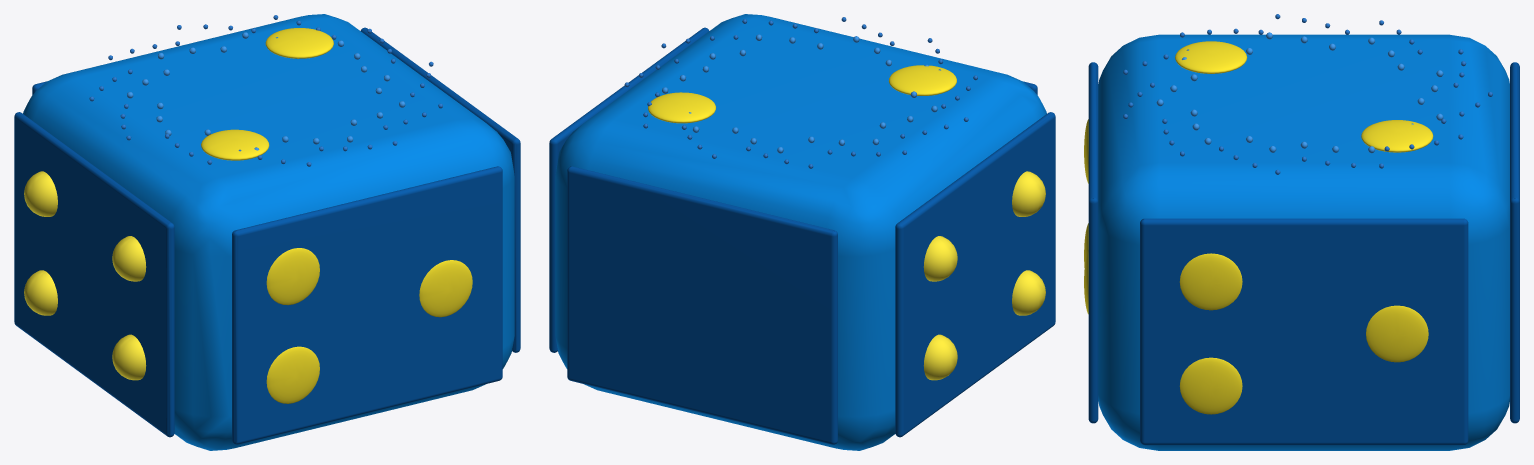
File: Schaumstoffwuerfel_3D_v2.glb
3 renders of one model, left to right at view 1: azimuth 30°, elevation 25°; view 2: azimuth 150°, elevation 25°; view 3: azimuth 270°, elevation 25°, orthographic. The views are drawn at different scales.
Parts seen in each view (by area): view 1: Schaumstoffwuerfel_3D_v2__web_darker_blue_soft_recessed_cube, Schaumstoffwuerfel_3D_v2__web_matte_blue_foam_cube_rounded_b, Schaumstoffwuerfel_3D_v2__web_raised_yellow_foam_cube_pips, Schaumstoffwuerfel_3D_v2__web_v2_extra_raised_yellow_foam_cu, Schaumstoffwuerfel_3D_v2__web_v2_extra_darker_blue_porous_fo, Schaumstoffwuerfel_3D_v2__web_subtle_blue_porous_foam_speckl; view 2: Schaumstoffwuerfel_3D_v2__web_darker_blue_soft_recessed_cube, Schaumstoffwuerfel_3D_v2__web_matte_blue_foam_cube_rounded_b, Schaumstoffwuerfel_3D_v2__web_v2_extra_raised_yellow_foam_cu, Schaumstoffwuerfel_3D_v2__web_raised_yellow_foam_cube_pips, Schaumstoffwuerfel_3D_v2__web_v2_extra_darker_blue_porous_fo, Schaumstoffwuerfel_3D_v2__web_subtle_blue_porous_foam_speckl; view 3: Schaumstoffwuerfel_3D_v2__web_matte_blue_foam_cube_rounded_b, Schaumstoffwuerfel_3D_v2__web_darker_blue_soft_recessed_cube, Schaumstoffwuerfel_3D_v2__web_raised_yellow_foam_cube_pips, Schaumstoffwuerfel_3D_v2__web_v2_extra_darker_blue_porous_fo, Schaumstoffwuerfel_3D_v2__web_subtle_blue_porous_foam_speckl.
Boxes of the visible parts, x1=… form: Schaumstoffwuerfel_3D_v2__web_darker_blue_soft_recessed_cube: x1=14, y1=27, x2=520, y2=444; Schaumstoffwuerfel_3D_v2__web_matte_blue_foam_cube_rounded_b: x1=23, y1=14, x2=514, y2=450; Schaumstoffwuerfel_3D_v2__web_raised_yellow_foam_cube_pips: x1=201, y1=28, x2=472, y2=403; Schaumstoffwuerfel_3D_v2__web_v2_extra_raised_yellow_foam_cu: x1=24, y1=171, x2=146, y2=380; Schaumstoffwuerfel_3D_v2__web_v2_extra_darker_blue_porous_fo: x1=89, y1=15, x2=442, y2=166; Schaumstoffwuerfel_3D_v2__web_subtle_blue_porous_foam_speckl: x1=127, y1=32, x2=405, y2=150; Schaumstoffwuerfel_3D_v2__web_darker_blue_soft_recessed_cube: x1=549, y1=27, x2=1055, y2=444; Schaumstoffwuerfel_3D_v2__web_matte_blue_foam_cube_rounded_b: x1=555, y1=14, x2=1046, y2=450; Schaumstoffwuerfel_3D_v2__web_v2_extra_raised_yellow_foam_cu: x1=923, y1=171, x2=1045, y2=380; Schaumstoffwuerfel_3D_v2__web_raised_yellow_foam_cube_pips: x1=648, y1=65, x2=956, y2=123; Schaumstoffwuerfel_3D_v2__web_v2_extra_darker_blue_porous_fo: x1=624, y1=17, x2=977, y2=168; Schaumstoffwuerfel_3D_v2__web_subtle_blue_porous_foam_speckl: x1=662, y1=34, x2=937, y2=153; Schaumstoffwuerfel_3D_v2__web_matte_blue_foam_cube_rounded_b: x1=1098, y1=34, x2=1509, y2=450; Schaumstoffwuerfel_3D_v2__web_darker_blue_soft_recessed_cube: x1=1088, y1=62, x2=1519, y2=445; Schaumstoffwuerfel_3D_v2__web_raised_yellow_foam_cube_pips: x1=1084, y1=41, x2=1433, y2=414; Schaumstoffwuerfel_3D_v2__web_v2_extra_darker_blue_porous_fo: x1=1123, y1=14, x2=1492, y2=174; Schaumstoffwuerfel_3D_v2__web_subtle_blue_porous_foam_speckl: x1=1156, y1=32, x2=1443, y2=153.
Bounding box in the file's own units: 0.8388 × 0.5909 × 0.7962.
